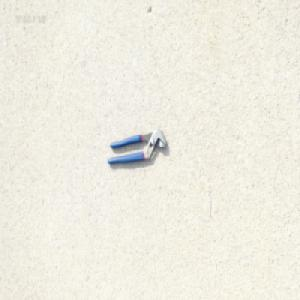Pliers: (106, 126, 166, 164)
